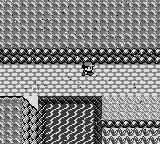captura: (46, 104, 94, 143), (102, 129, 160, 143)
main: (82, 62, 95, 75)
mo: (39, 96, 102, 143)
no-caminable: (0, 0, 160, 64), (1, 97, 37, 143)
salto: (102, 121, 159, 127)
